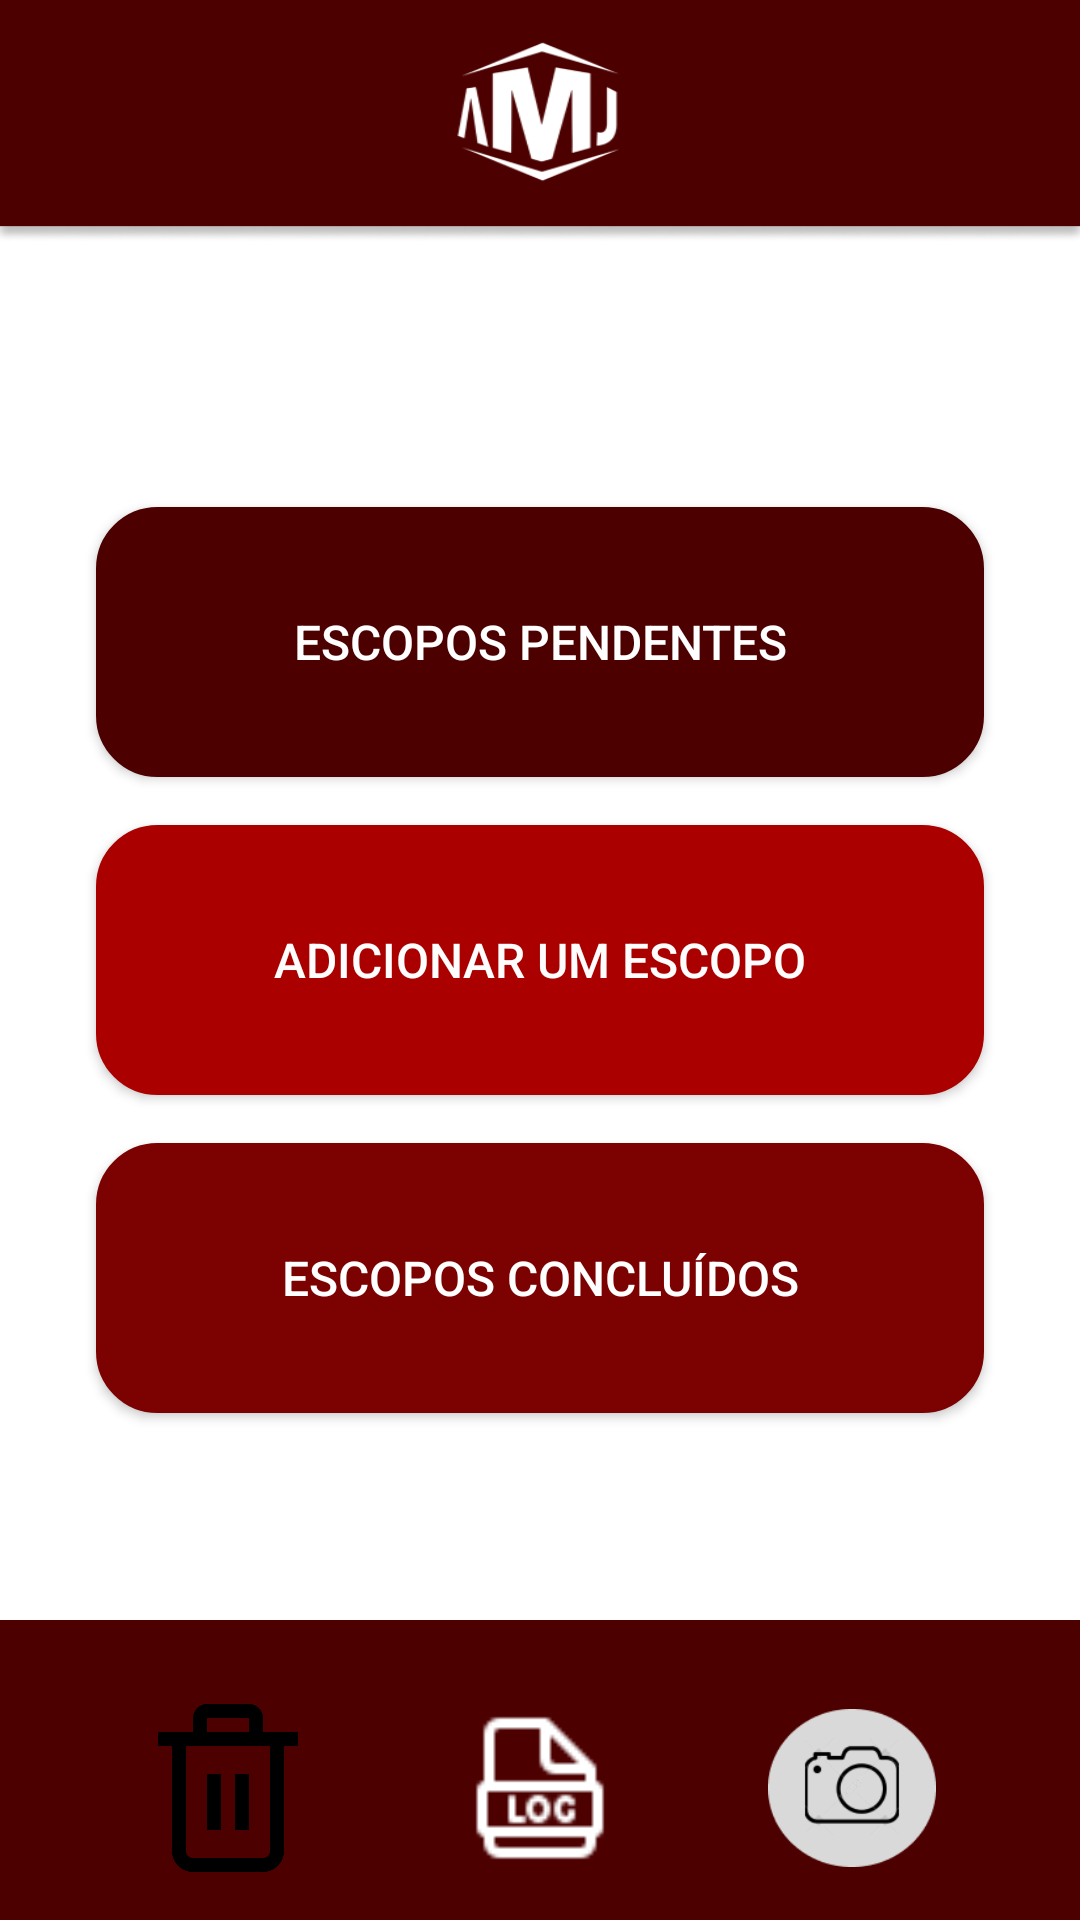

Point at icon controls on the screen. Image size 1080*1920, points as (x=x, y=y).
Excluir escopo: (x=228, y=1788)
Histórico: (x=540, y=1788)
